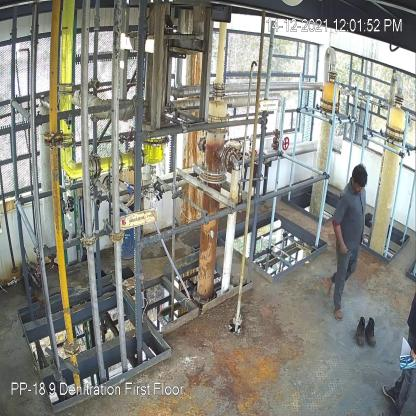no_shoes: (332, 302, 344, 320)
shoes: (364, 315, 379, 352), (353, 316, 366, 346)
